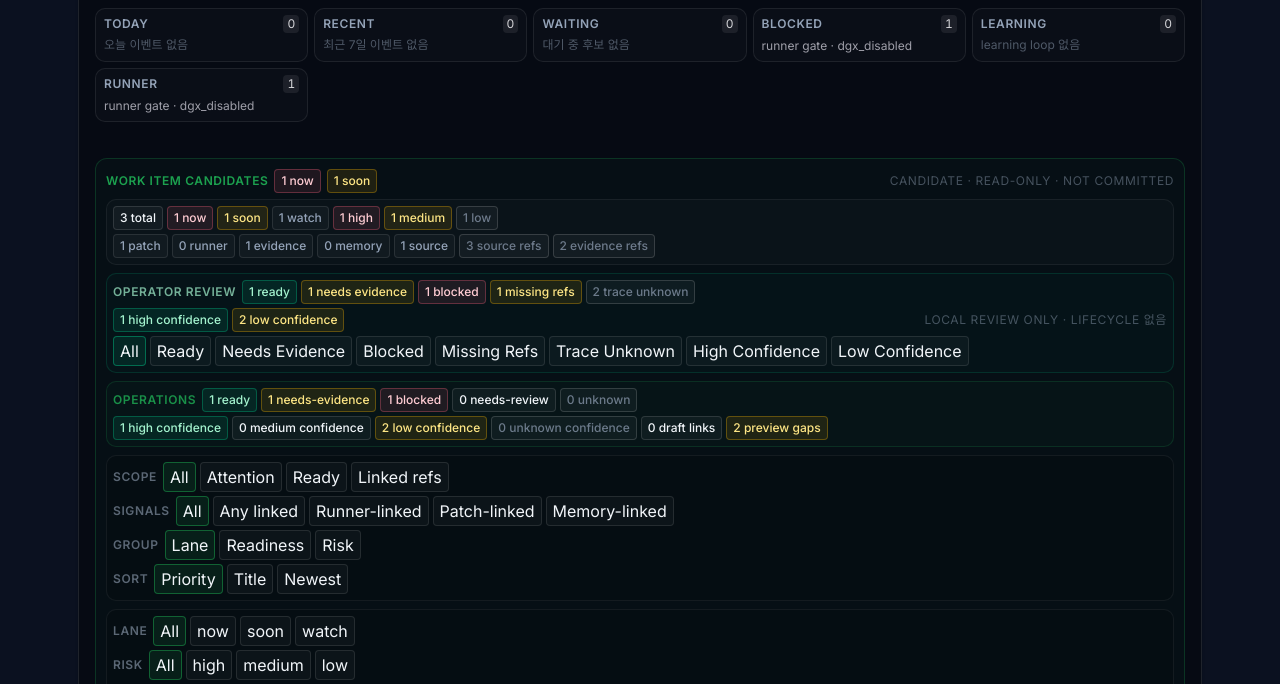
E15 — WorkItem Candidate Operator Review Surface › filters candidate rows through local review controls
The image size is (1280, 684).
(page scrolled)
Click the button with test id "wic-review-filter-ready". click: {"x": 180, "y": 350}
box: [150,336,211,366]
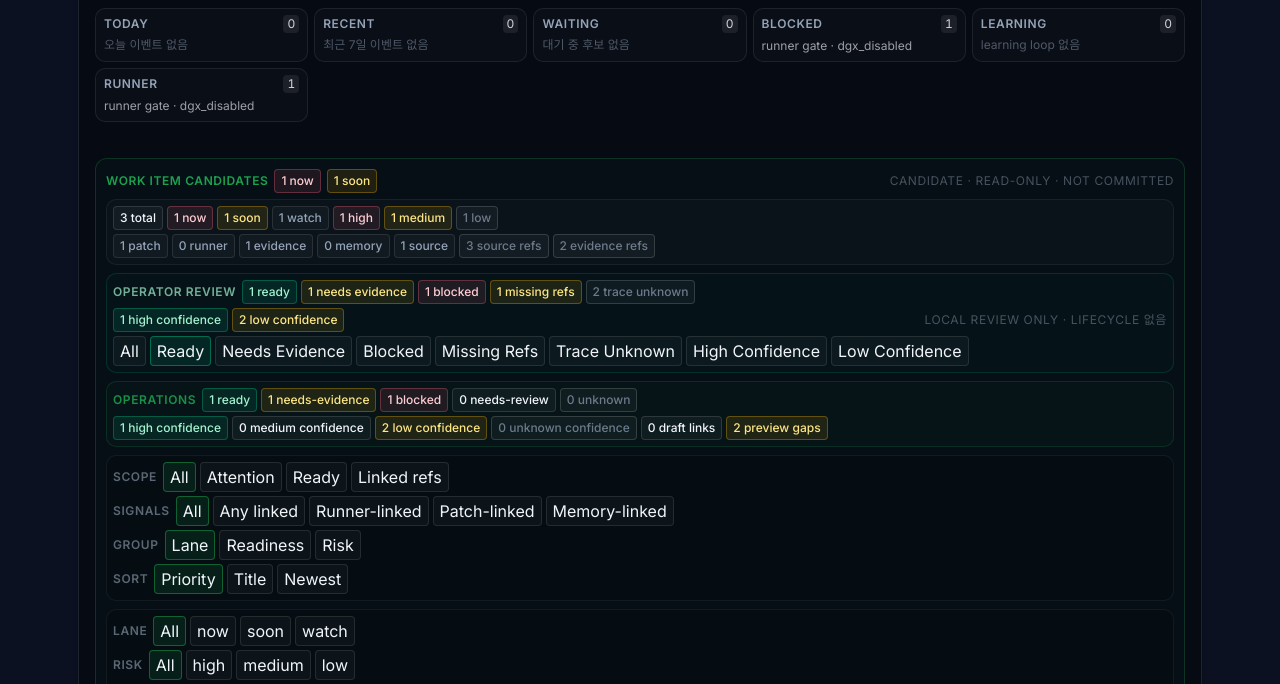
Click the button with test id "wic-review-filter-missing-refs". click: {"x": 490, "y": 350}
box: [435,336,545,366]
(page scrolled)
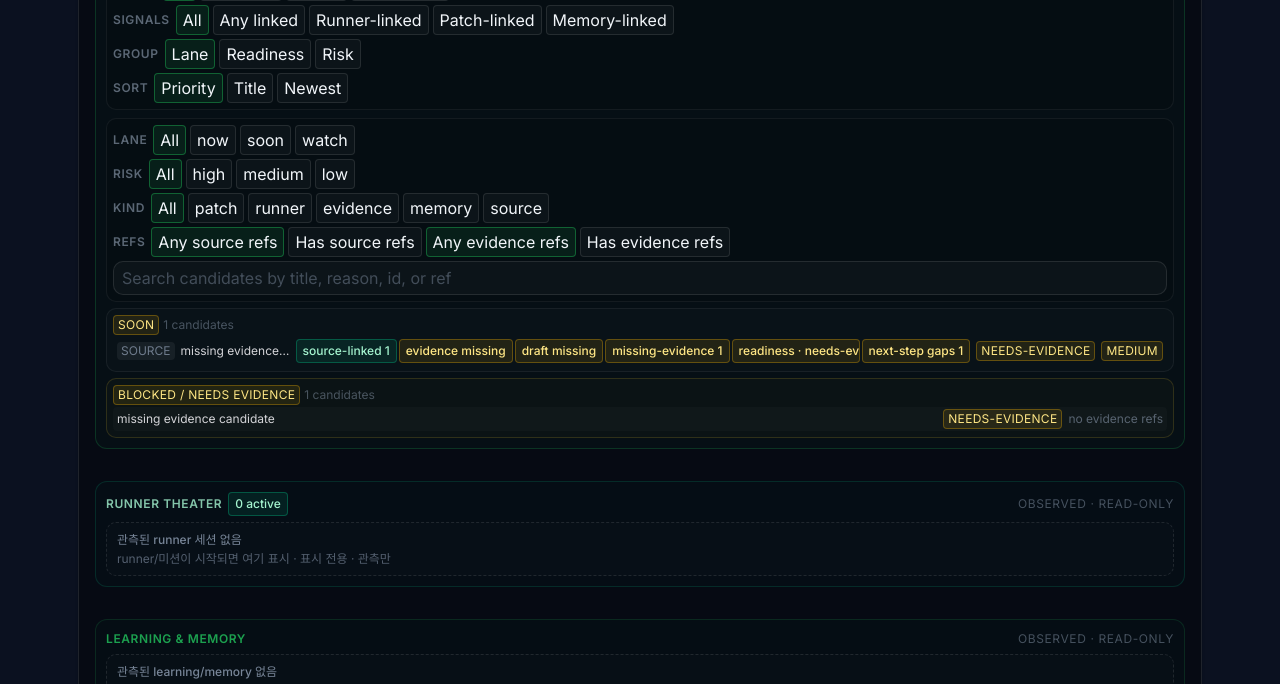
Expected: the button with test id "wic-row-wic-review-missing" is shown, [113,336,1167,364]
